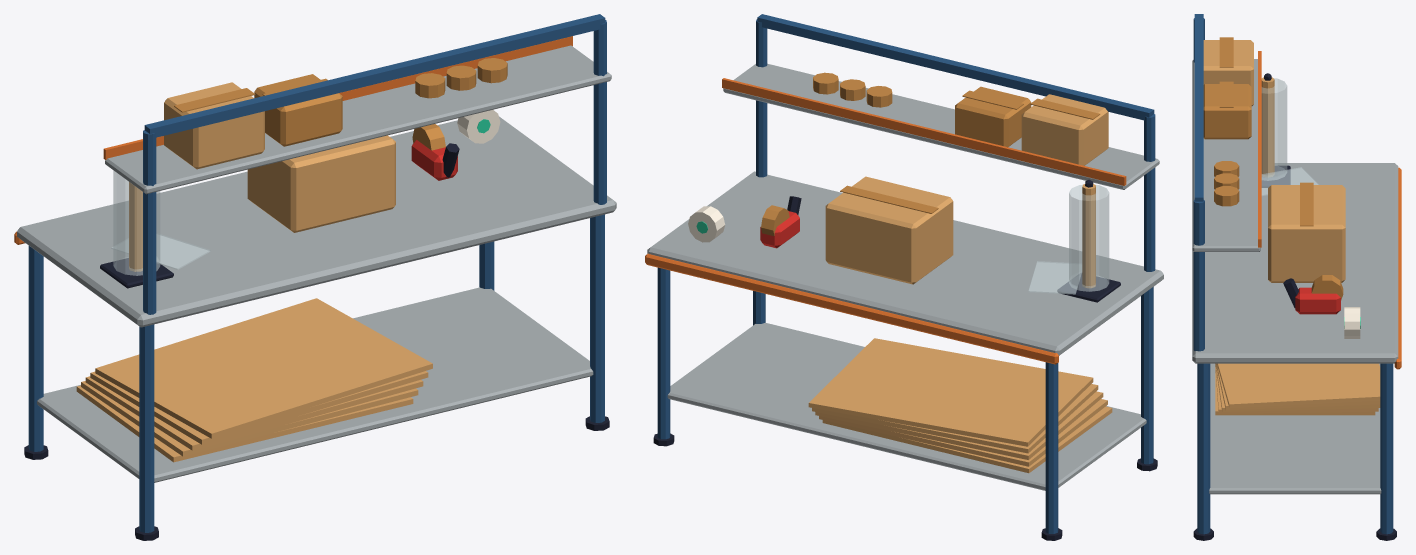
Rendered from sm_env_depot_sorting_table.glb.
3 views of the same model, side by side, from view 1: azimuth 30°, elevation 25°; view 2: azimuth 150°, elevation 25°; view 3: azimuth 270°, elevation 25° (orthographic). The views are drawn at different scales.
Parts seen in each view (by area): view 1: Top, LowerShelf, FlatCarton.004, Shelf, Parcel.002, Crossbar, Parcel, Parcel.001, Leg.001, FilmRoll, Leg, Leg.003 (+14 smaller); view 2: Top, LowerShelf, FlatCarton.004, Parcel.002, Shelf, Crossbar, TopEdge, Parcel, ShelfLip, FilmRoll, Parcel.001, Leg (+14 smaller); view 3: Top, LowerShelf, Parcel.002, FlatCarton.004, Shelf, FilmRoll, Parcel.001, Leg.002, Leg.003, Parcel, Crossbar, Upright.001 (+18 smaller).
Part boxes in pixels (x1,y1,x2,y2): Top: [17, 116, 616, 327]; LowerShelf: [37, 287, 593, 482]; FlatCarton.004: [95, 298, 432, 438]; Shelf: [105, 45, 611, 194]; Parcel.002: [247, 135, 395, 232]; Crossbar: [144, 14, 605, 137]; Parcel: [164, 82, 264, 169]; Parcel.001: [254, 74, 342, 146]; Leg.001: [139, 324, 154, 532]; FilmRoll: [113, 170, 160, 275]; Leg: [28, 246, 43, 451]; Leg.003: [590, 214, 604, 422]; Top: [647, 171, 1163, 355]; LowerShelf: [667, 322, 1146, 490]; FlatCarton.004: [808, 338, 1093, 446]; Parcel.002: [825, 176, 953, 284]; Shelf: [723, 63, 1159, 189]; Crossbar: [757, 14, 1154, 120]; TopEdge: [645, 253, 1058, 364]; Parcel: [1021, 94, 1108, 165]; ShelfLip: [722, 78, 1126, 185]; FilmRoll: [1069, 184, 1109, 291]; Parcel.001: [955, 86, 1031, 147]; Leg: [1045, 362, 1058, 533]; Top: [1192, 163, 1398, 363]; LowerShelf: [1209, 363, 1381, 494]; Parcel.002: [1268, 185, 1345, 282]; FlatCarton.004: [1217, 363, 1380, 408]; Shelf: [1192, 59, 1260, 251]; FilmRoll: [1261, 78, 1287, 180]; Parcel.001: [1203, 84, 1251, 139]; Leg.002: [1380, 363, 1393, 534]; Leg.003: [1197, 363, 1210, 534]; Parcel: [1203, 40, 1253, 105]; Crossbar: [1194, 14, 1203, 201]; Upright.001: [1193, 200, 1204, 351].
Bounding box in the file's own units: 2 × 1.64 × 0.915.
